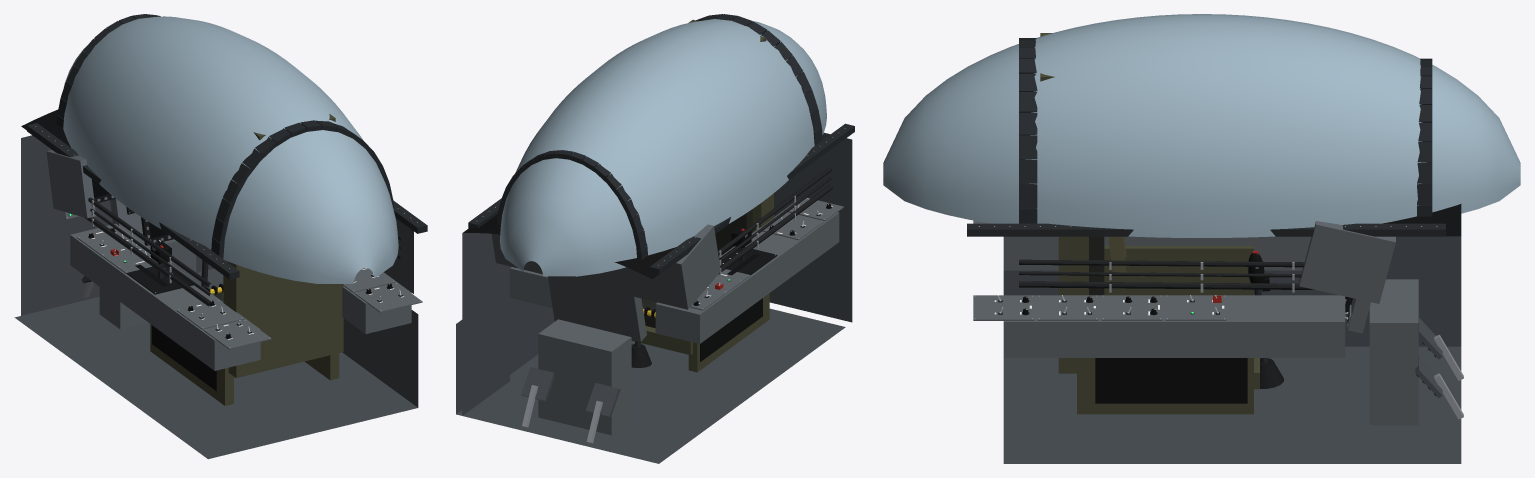
File: kit_hornet.glb
3 views of the same model, side by side, from view 1: azimuth 30°, elevation 25°; view 2: azimuth 150°, elevation 25°; view 3: azimuth 270°, elevation 25° (orthographic). The views are drawn at different scales.
Visible parts, largest first — view 1: cockpit, CANOPY_GLASS; view 2: cockpit, CANOPY_GLASS, STICK; view 3: cockpit, CANOPY_GLASS, STICK.
Boxes of the visible parts, <box> form: cockpit: <box>14,14,427,459</box>; CANOPY_GLASS: <box>63,16,398,283</box>; cockpit: <box>456,14,854,463</box>; CANOPY_GLASS: <box>499,19,826,276</box>; STICK: <box>631,298,651,367</box>; cockpit: <box>967,33,1463,463</box>; CANOPY_GLASS: <box>883,14,1520,237</box>; STICK: <box>1248,250,1283,388</box>.
Size of the model in its own units: 0.94 by 1.37 by 2.09.
